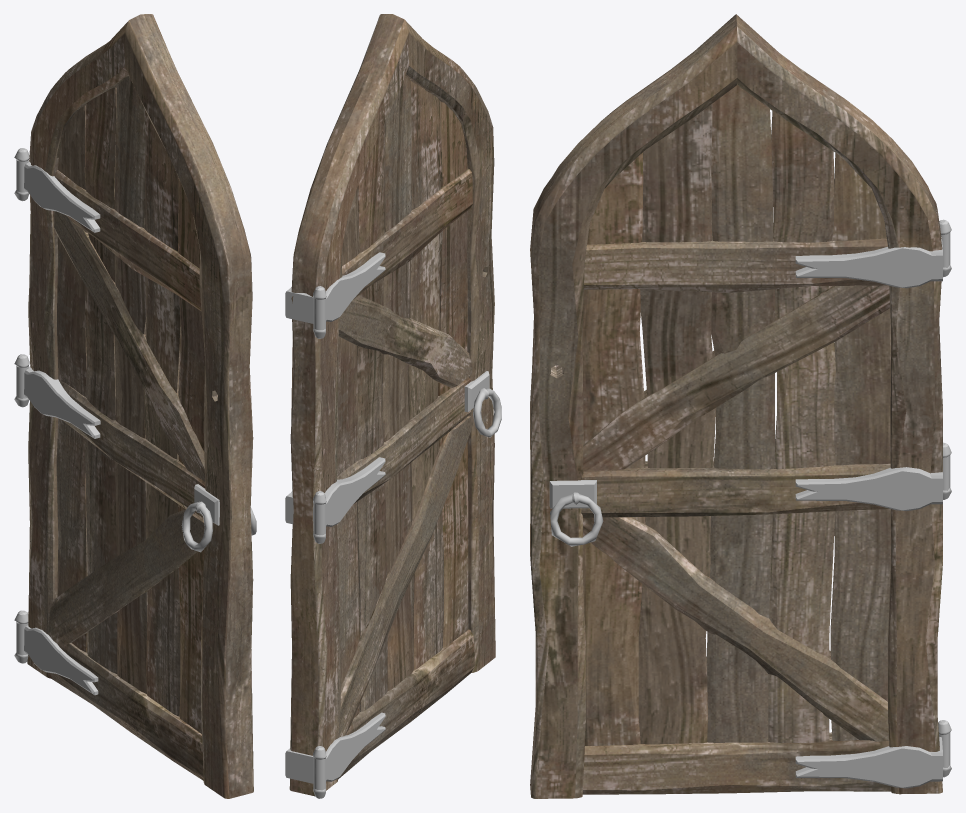
Rendered from SM_Door_01.fbx.
The picture shows the model from 3 angles, left to right: view 1: azimuth 30°, elevation 25°; view 2: azimuth 150°, elevation 25°; view 3: azimuth 270°, elevation 25°; orthographic projection. The views are drawn at different scales.
Visible parts, largest first — view 1: SM_Door_01_LOD0; view 2: SM_Door_01_LOD0; view 3: SM_Door_01_LOD0.
Boxes of the visible parts, box(x1,y1,x2,y2) form: SM_Door_01_LOD0: box(14, 14, 256, 798); SM_Door_01_LOD0: box(285, 14, 501, 798); SM_Door_01_LOD0: box(530, 14, 951, 798).
Bounding box in the file's own units: 22.14 × 118 × 239.
